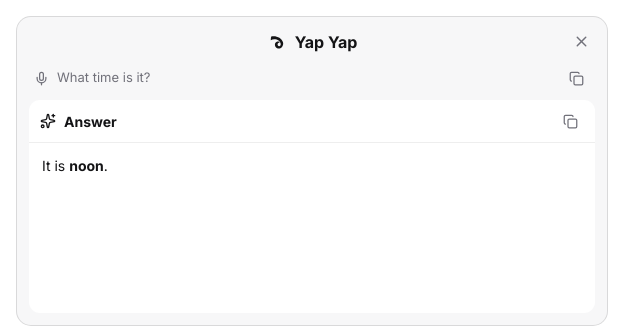
Test: marks only the copy button that was clicked
Click the button named "Copy question": (576,78) [562,64,590,92]
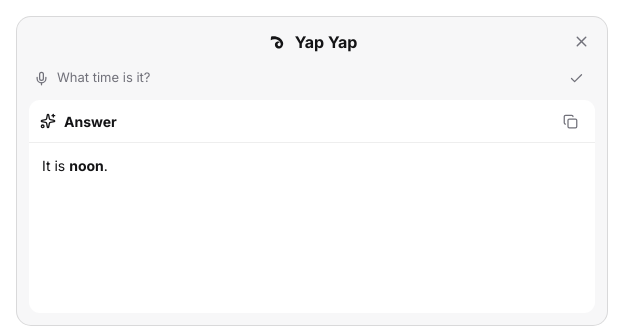
Check: the button named "Copy answer" is shown, box [556,107,584,135]
Check: the button named "Copied" is shown, box [562,64,590,92]
